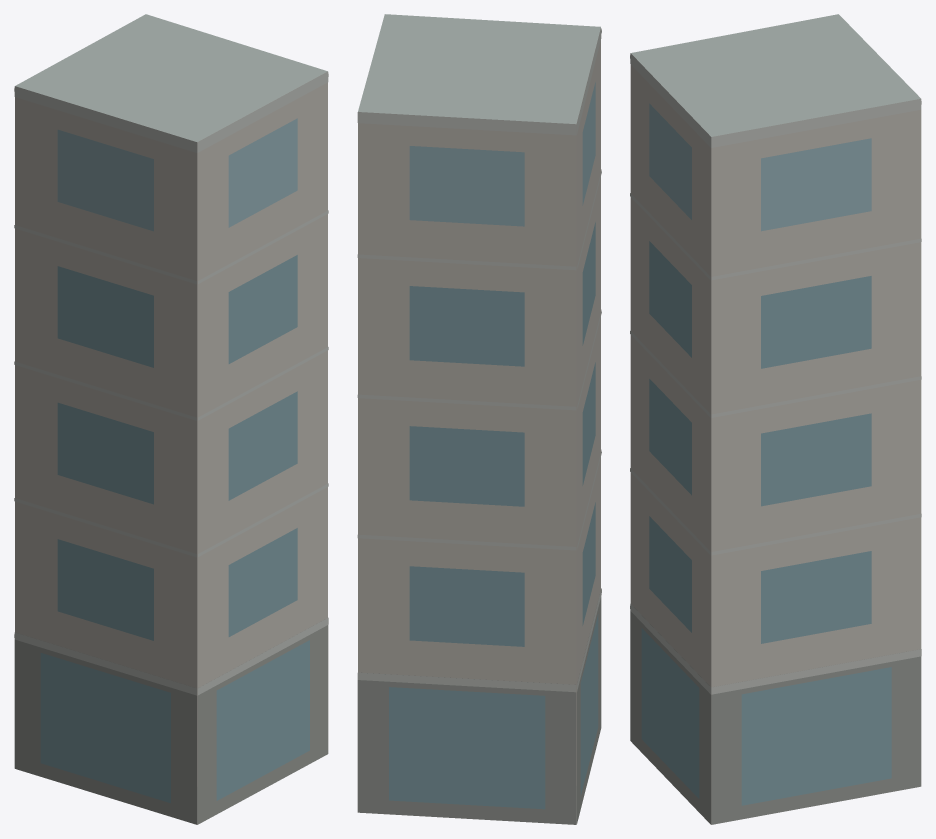
File: survey-upis-32708590.glb
The picture shows the model from 3 angles, left to right: view 1: azimuth 30°, elevation 25°; view 2: azimuth 150°, elevation 25°; view 3: azimuth 270°, elevation 25°; orthographic projection. The views are drawn at different scales.
Visible parts, largest first — view 1: survey-upis-32708590.tmp; view 2: survey-upis-32708590.tmp; view 3: survey-upis-32708590.tmp.
Part boxes in pixels (x1,y1,x2,y2): survey-upis-32708590.tmp: [14, 14, 328, 824]; survey-upis-32708590.tmp: [357, 14, 601, 824]; survey-upis-32708590.tmp: [630, 14, 921, 824].
Size of the model in its own units: 5.87 by 15.25 by 5.87.
